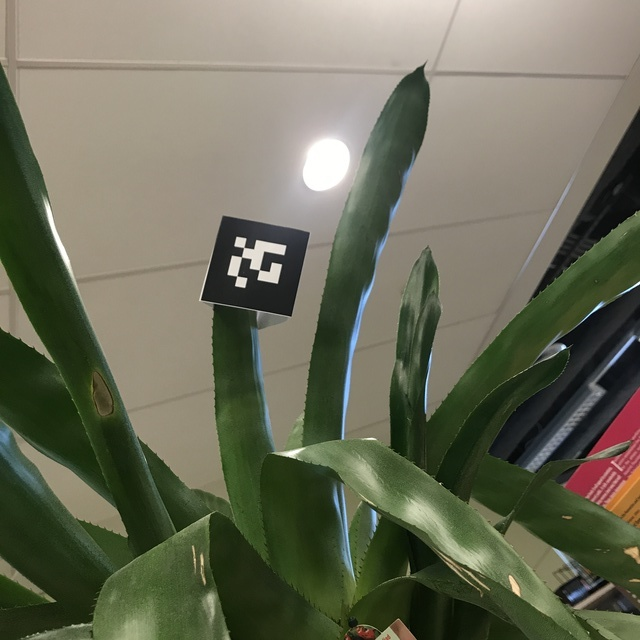ARTag: (200, 215, 311, 319)
